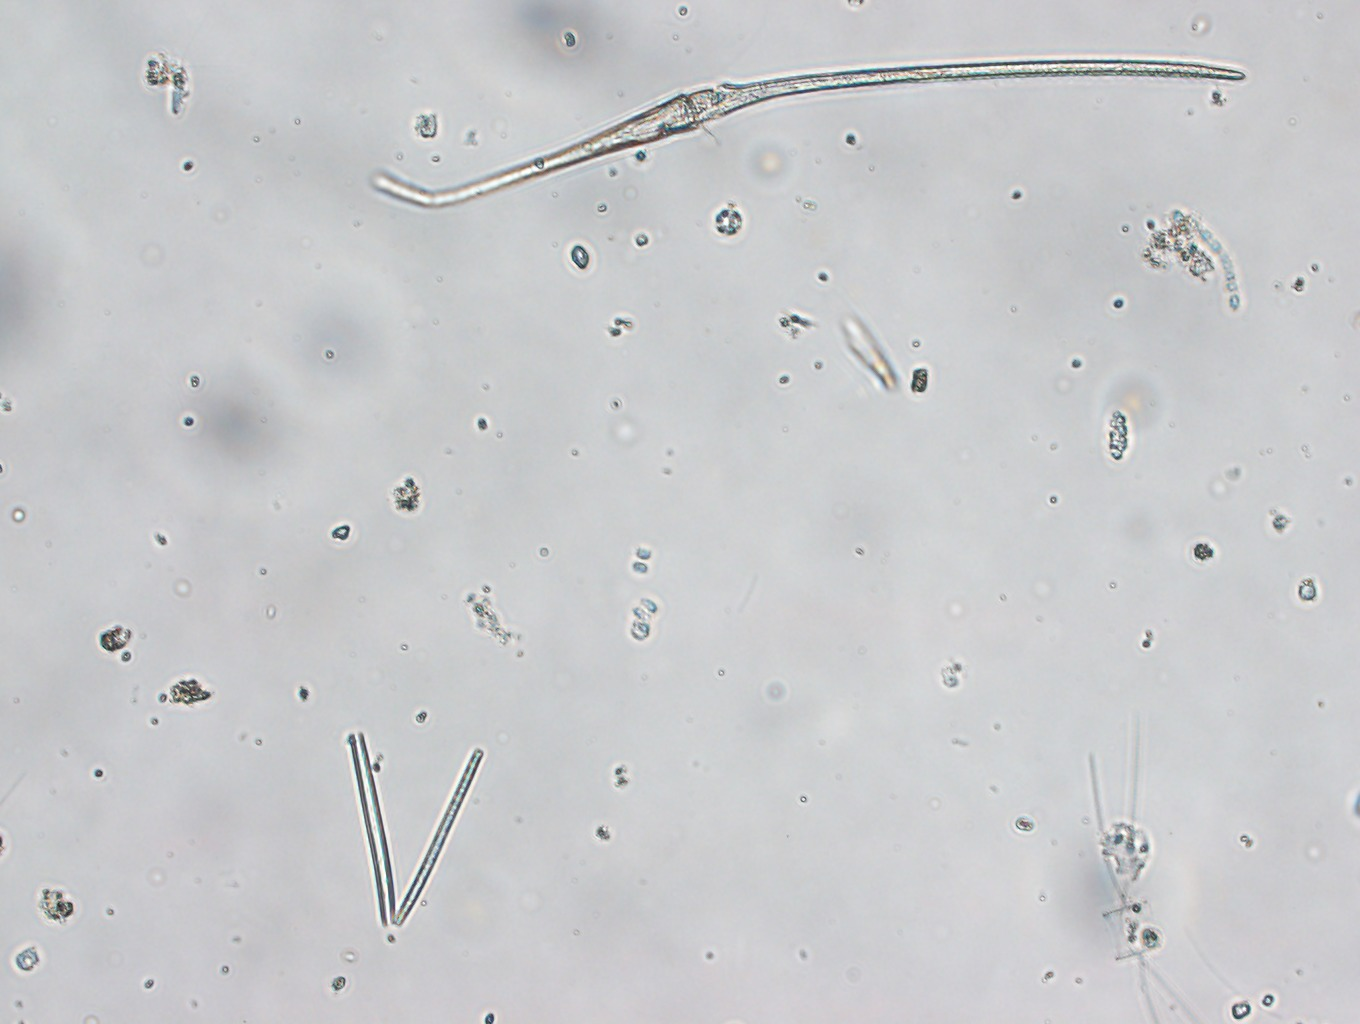ceratium fusus: (362, 51, 1250, 221)
chaetoceros: (1074, 725, 1209, 1024)
thalassionema frauenfeldii: (338, 725, 485, 945)
